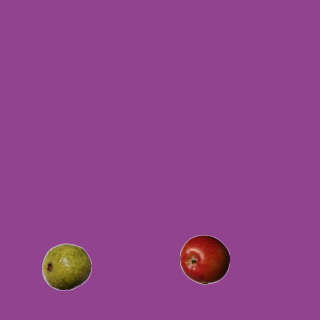Apple Braeburn: (179, 234, 229, 284)
Guava: (41, 241, 91, 291)
